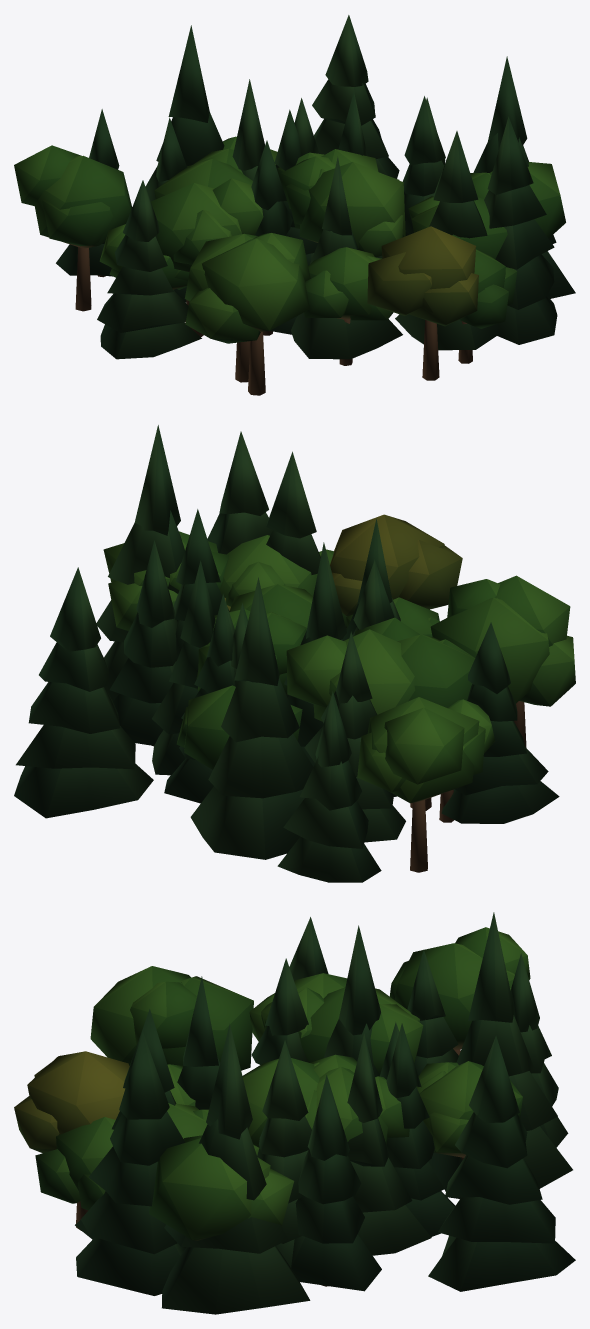
File: trees.glb
The picture shows the model from 3 angles, top to bottom: view 1: azimuth 30°, elevation 25°; view 2: azimuth 150°, elevation 25°; view 3: azimuth 270°, elevation 25°; orthographic projection. The views are drawn at different scales.
Visible parts, largest first — view 1: tree_4, tree_1, tree_0, tree_3, tree_2, tree_5; view 2: tree_1, tree_5, tree_0, tree_4, tree_2, tree_3; view 3: tree_1, tree_5, tree_3, tree_4, tree_0, tree_2.
Boxes of the visible parts, <box> form: tree_4: <box>14,136,565,365</box>; tree_1: <box>97,25,575,359</box>; tree_0: <box>56,98,478,395</box>; tree_3: <box>145,96,557,359</box>; tree_2: <box>154,148,517,382</box>; tree_5: <box>232,15,507,258</box>; tree_1: <box>96,425,559,859</box>; tree_5: <box>14,535,397,818</box>; tree_0: <box>164,514,570,882</box>; tree_4: <box>103,531,485,872</box>; tree_2: <box>214,549,575,721</box>; tree_3: <box>174,431,405,842</box>; tree_1: <box>75,912,572,1314</box>; tree_5: <box>167,925,575,1291</box>; tree_3: <box>76,949,458,1295</box>; tree_4: <box>149,927,530,1240</box>; tree_0: <box>14,953,568,1236</box>; tree_2: <box>35,976,423,1210</box>.
Bounding box in the file's own units: 1.24 × 0.6762 × 1.22.
